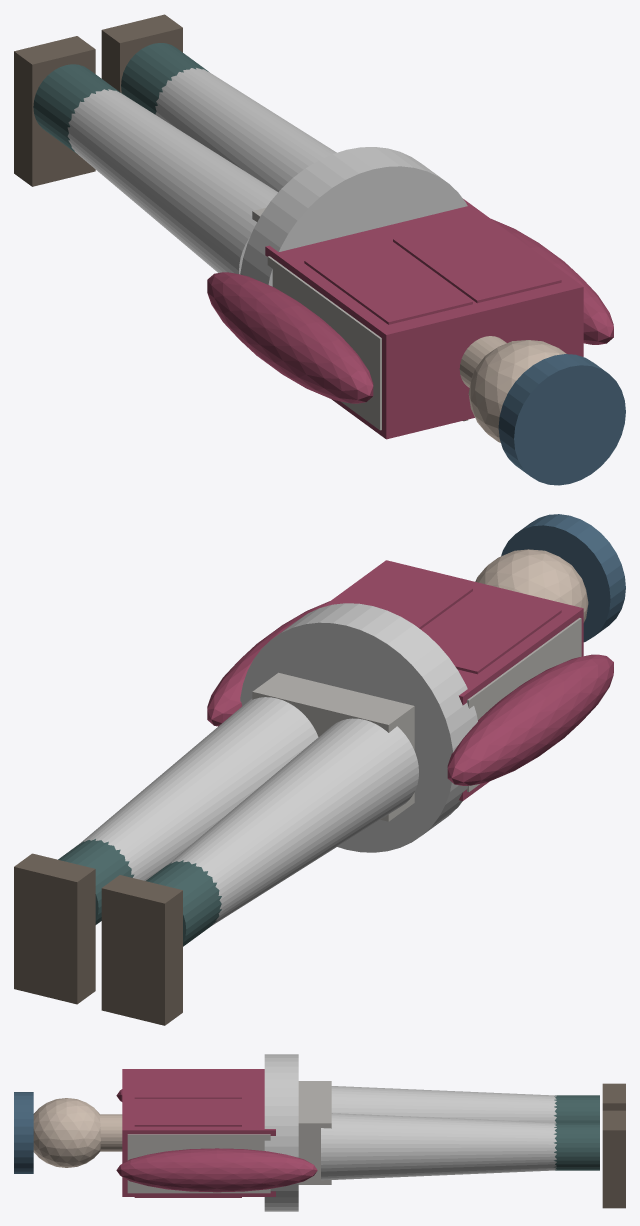
Rendered from MASTER_097_STAGE3_DETAIL.glb.
3 renders of one model, top to bottom at view 1: azimuth 30°, elevation 25°; view 2: azimuth 150°, elevation 25°; view 3: azimuth 270°, elevation 25°, orthographic. The views are drawn at different scales.
Parts seen in each view (by area): view 1: slot_upper_inner__këmishë, slot_lower_main__pantallona_L, slot_waist__brez, slot_headwear__mbulesë_koke, slot_upper_inner_sleeve_L, slot_lower_main__pantallona_R, slot_upper_outer__jelek_R, slot_upper_outer__jelek_L, slot_footwear__opinga_L, mannequin_torso, mannequin_head, slot_legwear__çorape_L (+4 smaller); view 2: slot_lower_main__pantallona_L, slot_waist__brez, slot_lower_main__pantallona_R, slot_footwear__opinga_R, slot_footwear__opinga_L, slot_upper_inner_sleeve_L, slot_upper_outer__jelek_L, slot_headwear__mbulesë_koke, mannequin_hips, slot_upper_inner__këmishë, mannequin_head, slot_upper_outer__jelek_R (+4 smaller); view 3: slot_lower_main__pantallona_R, slot_upper_inner_sleeve_R, slot_lower_main__pantallona_L, slot_upper_inner__këmishë, slot_waist__brez, mannequin_head, slot_upper_outer__jelek_R, mannequin_torso, slot_upper_outer__jelek_L, mannequin_hips, slot_footwear__opinga_R, slot_legwear__çorape_R (+4 smaller).
Part boxes in pixels (x1,y1,x2,y2): slot_upper_inner__këmishë: (265,199,583,439); slot_lower_main__pantallona_L: (67,89,277,274); slot_waist__brez: (240,147,467,286); slot_headwear__mbulesë_koke: (498,354,625,485); slot_upper_inner_sleeve_L: (207,272,373,403); slot_lower_main__pantallona_R: (155,68,336,192); slot_upper_outer__jelek_R: (393,218,561,303); slot_upper_outer__jelek_L: (304,240,472,324); slot_footwear__opinga_L: (14,36,95,186); mannequin_torso: (267,256,381,430); mannequin_head: (468,340,566,442); slot_legwear__çorape_L: (33,64,121,154); slot_lower_main__pantallona_L: (167,718,418,925); slot_waist__brez: (240,603,477,852); slot_lower_main__pantallona_R: (79,697,318,880); slot_footwear__opinga_R: (14,853,95,1004); slot_footwear__opinga_L: (101,875,182,1025); slot_upper_inner_sleeve_L: (447,654,613,785); slot_upper_outer__jelek_L: (422,589,561,674); slot_headwear__mbulesë_koke: (501,514,625,642); mannequin_hips: (252,672,414,821); slot_upper_inner__këmishë: (322,560,583,800); mannequin_head: (475,549,588,622); slot_upper_outer__jelek_R: (339,567,472,629); slot_lower_main__pantallona_R: (321,1113,556,1180); slot_upper_inner_sleeve_R: (116,1148,317,1192); slot_lower_main__pantallona_L: (331,1086,556,1122); slot_upper_inner__këmishë: (122,1069,275,1196); slot_waist__brez: (264,1054,298,1211); mannequin_head: (33,1098,100,1167); slot_upper_outer__jelek_R: (134,1098,241,1197); mannequin_torso: (127,1134,270,1193); slot_upper_outer__jelek_L: (134,1071,241,1098); mannequin_hips: (298,1081,331,1184); slot_footwear__opinga_R: (602,1110,625,1208); slot_legwear__çorape_R: (554,1122,599,1170).
Size of the model in its own units: 0.6172 by 0.44 by 1.71.
